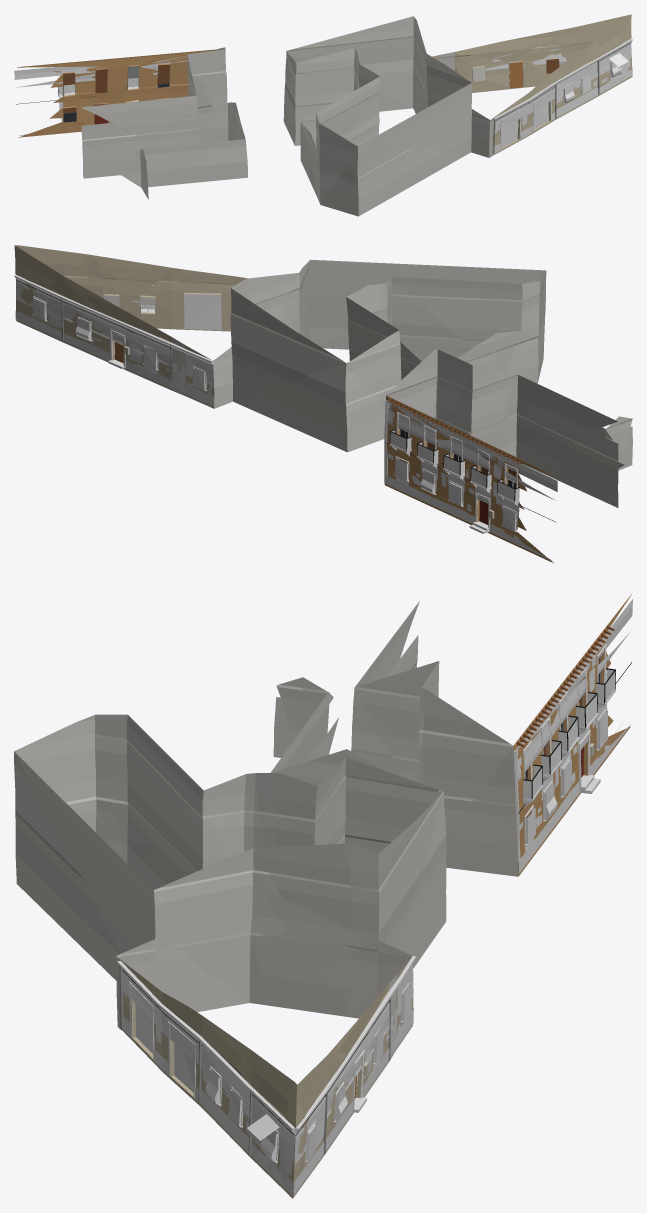
Rendered from zona_2_0.glb.
The picture shows the model from 3 angles, top to bottom: view 1: azimuth 30°, elevation 25°; view 2: azimuth 150°, elevation 25°; view 3: azimuth 270°, elevation 25°; orthographic projection. The views are drawn at different scales.
Visible parts, largest first — view 1: z_casas_2_0, z_fachadas_2_0; view 2: z_casas_2_0, z_fachadas_2_0; view 3: z_casas_2_0, z_fachadas_2_0.
Boxes of the visible parts, x1,y1,x2,y2 form: z_casas_2_0: [17, 14, 632, 216]; z_fachadas_2_0: [14, 38, 632, 154]; z_casas_2_0: [14, 245, 632, 563]; z_fachadas_2_0: [14, 274, 557, 560]; z_casas_2_0: [14, 594, 631, 1198]; z_fachadas_2_0: [117, 599, 632, 1195].
Bounding box in the file's own units: 52.09 × 8.92 × 28.63.
